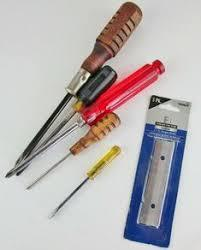screwdriver: (46, 177, 90, 218), (3, 149, 36, 179), (22, 174, 44, 192)
